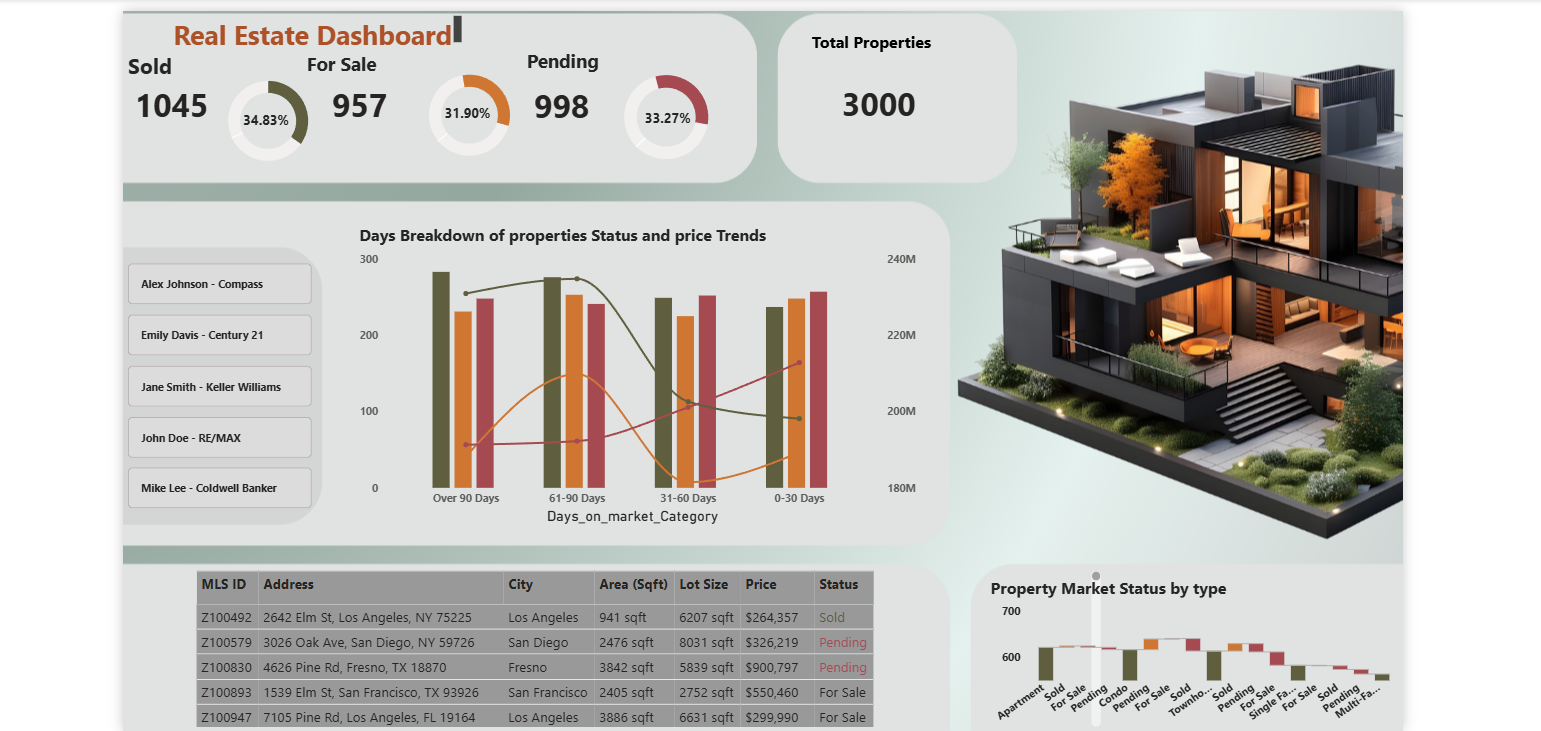

The dashboard page shown, as its layout file describes it:
{"tool":"powerbi","page":{"name":"Page 1","canvas":[1280,720],"ordinal":0},"visuals":[{"type":"textbox","box":[45.6,0,298.7,40.5],"z":0},{"type":"card","fields":{"Values":["RealEstate_Dataset.Total_properties"]},"box":[665.8,20.3,179.7,146.8],"z":1000},{"type":"card","fields":{"Values":["RealEstate_Dataset.properties_sold"]},"box":[0,41.8,97.5,106.3],"z":2000},{"type":"card","fields":{"Values":["RealEstate_Dataset.properties_forsale"]},"box":[144.3,40.5,186.1,107.6],"z":3000},{"type":"card","title":"Pending","fields":{"Values":["RealEstate_Dataset.properties_pending"]},"box":[332.9,30.4,212.7,130.4],"z":4000},{"type":"card","fields":{"Values":["RealEstate_Dataset.%_properties_sold"]},"box":[19,39.2,249.4,145.6],"z":5000},{"type":"card","fields":{"Values":["RealEstate_Dataset.%_properties_forsale"]},"box":[249.4,30.4,192.4,148.1],"z":6000},{"type":"card","fields":{"Values":["RealEstate_Dataset.%_properties_pending"]},"box":[438,35.4,215.2,149.4],"z":7000},{"type":"donutChart","fields":{"Category":["RealEstate_Dataset.Status"],"Y":["RealEstate_Dataset.Status"]},"box":[67.1,54.4,155.7,110.1],"z":8000},{"type":"donutChart","fields":{"Category":["RealEstate_Dataset.Status"],"Y":["RealEstate_Dataset.Status"]},"box":[260.8,49.4,170.9,111.4],"z":9000},{"type":"donutChart","fields":{"Category":["RealEstate_Dataset.Status"],"Y":["RealEstate_Dataset.Status"]},"box":[469.6,49.4,146.8,115.2],"z":10000},{"type":"textbox","box":[683.5,15.2,162,77.2],"z":11000},{"type":"lineClusteredColumnComboChart","title":"Days Breakdown of properties Status and price Trends","fields":{"Category":["RealEstate_Dataset.Days_on_market_Category"],"Y":["RealEstate_Dataset.properties_sold","RealEstate_Dataset.properties_forsale","RealEstate_Dataset.properties_pending"],"Y2":["RealEstate_Dataset.Total_sold_price","RealEstate_Dataset.Total_sale_price","RealEstate_Dataset.Total_Pending_price"]},"box":[231.6,212.7,567.1,306.3],"z":12000},{"type":"tableEx","fields":{"Values":["RealEstate_Dataset.MLS ID","RealEstate_Dataset.Address","RealEstate_Dataset.City","RealEstate_Dataset.Area (Sqft)","RealEstate_Dataset.Lot Size","RealEstate_Dataset.Price","RealEstate_Dataset.Status"]},"box":[67.1,554.4,915.2,165.8],"z":13000},{"type":"waterfallChart","title":"Property Market Status by type","fields":{"Category":["RealEstate_Dataset.Property Type"],"Breakdown":["RealEstate_Dataset.Status"],"Y":["RealEstate_Dataset.Status"]},"box":[862,564.6,417.7,155.7],"z":14000},{"type":"advancedSlicerVisual","fields":{"Values":["RealEstate_Dataset.Listing Agent"]},"box":[0,248.1,194.9,258.2],"z":15000},{"type":"textbox","box":[398.7,32.9,119,50.6],"z":15001},{"type":"textbox","box":[178.5,35.4,119,44.3],"z":15002},{"type":"textbox","box":[0,35.4,119,54.4],"z":15003}]}

Visuals, with their boxes on the page's 1280x720 design canvas (x1, y1, x2, y2). These are canvas units, not pixel positions in the 1541x731 screenshot, which may show the page scaled, cropped or inside an application window:
textbox: {"left": 46, "top": 0, "right": 344, "bottom": 40}
card - RealEstate_Dataset.Total_properties: {"left": 666, "top": 20, "right": 846, "bottom": 167}
card - RealEstate_Dataset.properties_sold: {"left": 0, "top": 42, "right": 98, "bottom": 148}
card - RealEstate_Dataset.properties_forsale: {"left": 144, "top": 40, "right": 330, "bottom": 148}
"Pending" card: {"left": 333, "top": 30, "right": 546, "bottom": 161}
card - RealEstate_Dataset.%_properties_sold: {"left": 19, "top": 39, "right": 268, "bottom": 185}
card - RealEstate_Dataset.%_properties_forsale: {"left": 249, "top": 30, "right": 442, "bottom": 178}
card - RealEstate_Dataset.%_properties_pending: {"left": 438, "top": 35, "right": 653, "bottom": 185}
donutChart - RealEstate_Dataset.Status x RealEstate_Dataset.Status: {"left": 67, "top": 54, "right": 223, "bottom": 164}
donutChart - RealEstate_Dataset.Status x RealEstate_Dataset.Status: {"left": 261, "top": 49, "right": 432, "bottom": 161}
donutChart - RealEstate_Dataset.Status x RealEstate_Dataset.Status: {"left": 470, "top": 49, "right": 616, "bottom": 165}
textbox: {"left": 684, "top": 15, "right": 846, "bottom": 92}
"Days Breakdown of properties Status and price Trends" lineClusteredColumnComboChart: {"left": 232, "top": 213, "right": 799, "bottom": 519}
tableEx - RealEstate_Dataset.MLS ID x RealEstate_Dataset.Address: {"left": 67, "top": 554, "right": 982, "bottom": 720}
"Property Market Status by type" waterfallChart: {"left": 862, "top": 565, "right": 1280, "bottom": 720}
advancedSlicerVisual - RealEstate_Dataset.Listing Agent: {"left": 0, "top": 248, "right": 195, "bottom": 506}
textbox: {"left": 399, "top": 33, "right": 518, "bottom": 84}
textbox: {"left": 178, "top": 35, "right": 298, "bottom": 80}
textbox: {"left": 0, "top": 35, "right": 119, "bottom": 90}
